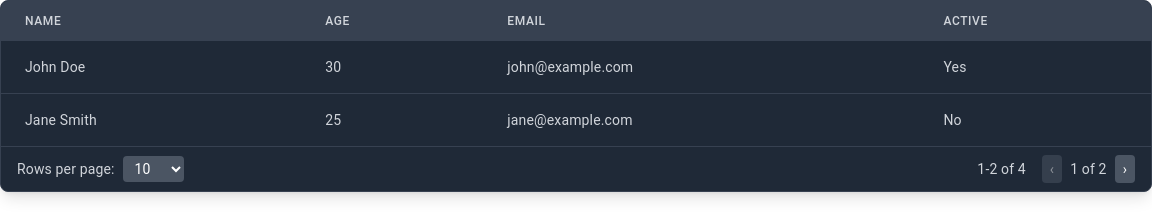
Test: DataTable Component › Pagination › navigates to next page
Check: the text "John Doe" is shown, box [1, 41, 301, 94]
Check: the text "Jane Smith" is shown, box [1, 94, 301, 146]
# Click next
Click the button "›".
click(1125, 169)  # box [1115, 155, 1135, 183]
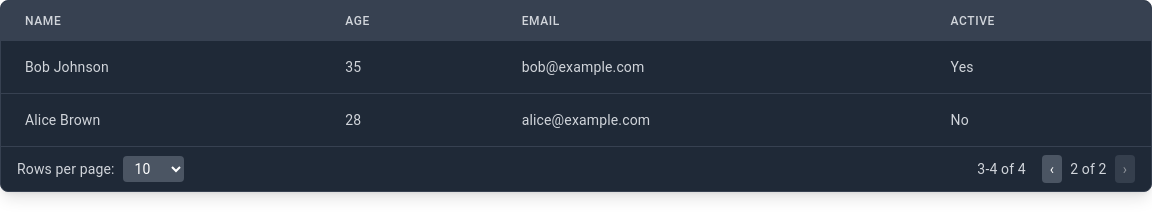
Check: the text "John Doe" is gone
Check: the text "Bob Johnson" is shown, box [1, 41, 321, 94]
Check: the text "Alice Brown" is shown, box [1, 94, 321, 146]
